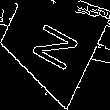N_NW: (20, 13, 78, 72)
